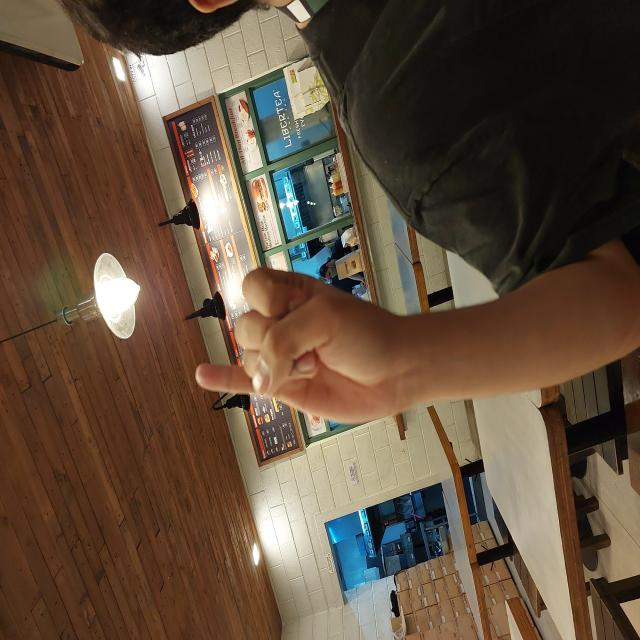I: (215, 194, 375, 408)
